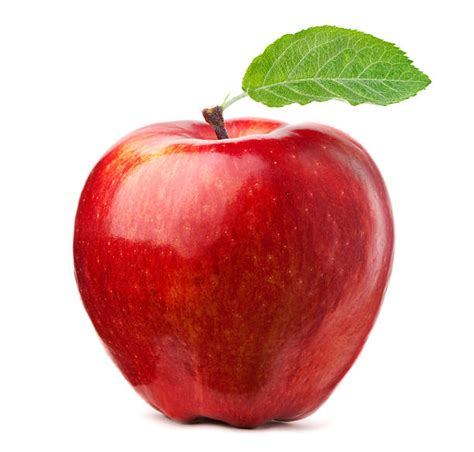apple: (73, 94, 396, 425)
